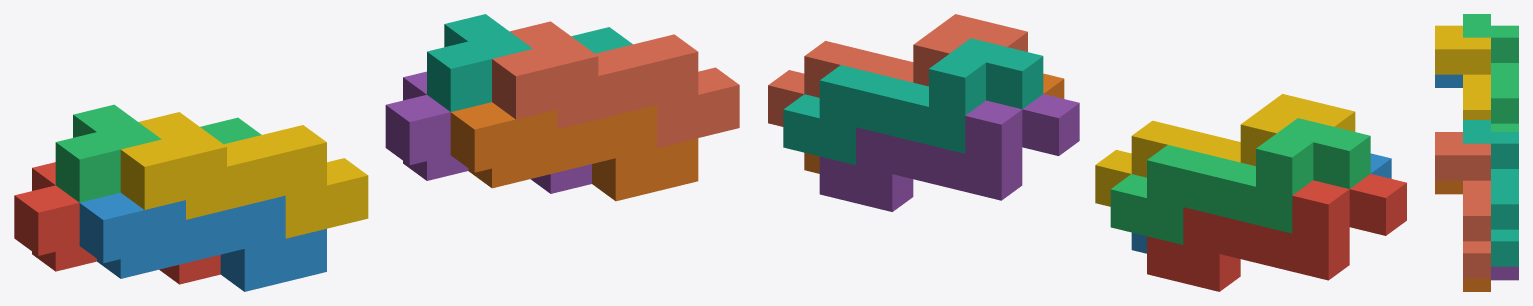
File: tiling.obj
3 renders of one model, left to right at view 1: azimuth 30°, elevation 25°; view 2: azimuth 150°, elevation 25°; view 3: azimuth 270°, elevation 25°, orthographic. The views are drawn at different scales.
Visible parts, largest first — view 1: copy_1_domain_4, copy_1_domain_8, copy_1_domain_6, copy_1_domain_2, copy_1_domain_3, copy_1_domain_7, copy_1_domain_1, copy_1_domain_5; view 2: copy_1_domain_3, copy_1_domain_7, copy_1_domain_5, copy_1_domain_1, copy_1_domain_4, copy_1_domain_8, copy_1_domain_2, copy_1_domain_6; view 3: copy_1_domain_8, copy_1_domain_7, copy_1_domain_4, copy_1_domain_3, copy_1_domain_6, copy_1_domain_5, copy_1_domain_2.
Boxes of the visible parts, x1,y1,x2,y2 form: copy_1_domain_4: (120, 112, 368, 238); copy_1_domain_8: (492, 21, 739, 147); copy_1_domain_6: (450, 102, 698, 201); copy_1_domain_2: (79, 192, 326, 291); copy_1_domain_3: (55, 104, 261, 202); copy_1_domain_7: (427, 14, 632, 111); copy_1_domain_1: (14, 162, 220, 284); copy_1_domain_5: (385, 71, 591, 193); copy_1_domain_3: (1110, 118, 1370, 244); copy_1_domain_7: (783, 38, 1043, 164); copy_1_domain_5: (819, 94, 1079, 211); copy_1_domain_1: (1147, 174, 1406, 291); copy_1_domain_4: (1095, 94, 1355, 206); copy_1_domain_8: (768, 14, 1027, 126); copy_1_domain_2: (1131, 153, 1391, 253); copy_1_domain_6: (804, 73, 1064, 173); copy_1_domain_8: (1435, 132, 1490, 278); copy_1_domain_7: (1463, 120, 1518, 266); copy_1_domain_4: (1435, 25, 1490, 119); copy_1_domain_3: (1463, 14, 1518, 131); copy_1_domain_6: (1435, 180, 1490, 291); copy_1_domain_5: (1491, 266, 1518, 280); copy_1_domain_2: (1435, 74, 1462, 87).
Bounding box in the file's own units: 17 × 4 × 3.
